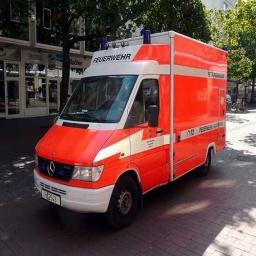Ambulance: (34, 30, 226, 227)
